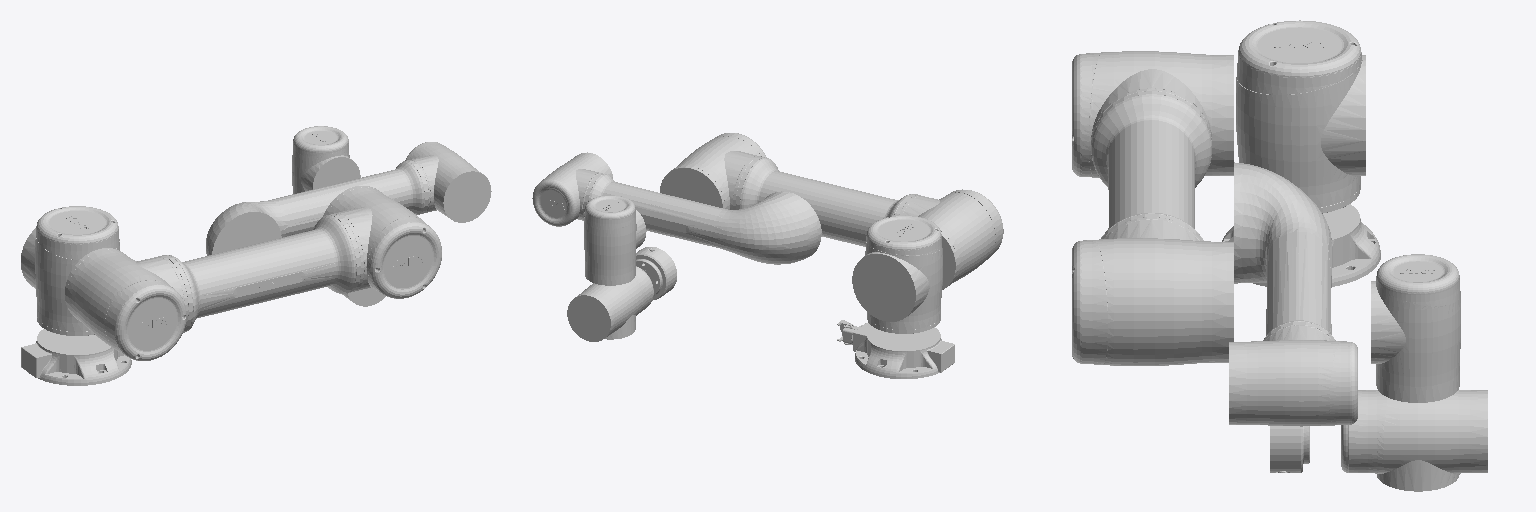
robot.urdf — jaka_zu3:
<?xml version="1.0" encoding="utf-8" ?>
<!-- This URDF was automatically created by SolidWorks to URDF Exporter! Originally created by [author] ([email redacted]) 
     Commit Version: 1.5.1-0-g916b5db  Build Version: 1.5.7152.31018
     For more information, please see http://wiki.ros.org/sw_urdf_exporter -->
<robot name="jaka_zu3">

    <!-- LINK -->
    <link name="world" />

    <link name="Link_0">  
        <inertial>
            <origin xyz="-0.0015666 1.7294E-05 0.05088" rpy="0 0 0" />
            <mass value="3.6417" />
            <inertia ixx="0.0050627" ixy="-6.9042E-07" ixz="-8.4162E-05" iyy="0.0051147" iyz="2.9665E-06" izz="0.006537" />
        </inertial>

        <visual>
            <origin xyz="0 0 0" rpy="0 0 0" />
            <geometry>
                <mesh filename="package://jaka_description/meshes/jaka_zu3_meshes/Link_0.STL" />
            </geometry>
            <material name="">
                <color rgba="0.84706 0.84706 0.84706 1" />
            </material>
        </visual>
        <collision>
            <origin xyz="0 0 0" rpy="0 0 0" />
            <geometry>
                <mesh filename="package://jaka_description/meshes/jaka_zu3_meshes/Link_0.STL" />
            </geometry>
        </collision>
    </link>

    <link name="Link_1">      
        <inertial>
            <origin xyz="-3.8197E-07 0.0039623 -0.0033438" rpy="0 0 0" />
            <mass value="7.0387" />
            <inertia ixx="0.012561" ixy="8.1417E-08" ixz="-1.8051E-08" iyy="0.011919" iyz="-8.7195E-05" izz="0.0085506" />
        </inertial>

        <visual>
            <origin xyz="0 0 0" rpy="0 0 0" />
            <geometry>
                <mesh filename="package://jaka_description/meshes/jaka_zu3_meshes/Link_1.STL" />
            </geometry>
            <material name="">
                <color rgba="0.84706 0.84706 0.84706 1" />
            </material>
        </visual>
        <collision>
            <origin xyz="0 0 0" rpy="0 0 0" />
            <geometry>
                <mesh filename="package://jaka_description/meshes/jaka_zu3_meshes/Link_1.STL" />
            </geometry>
        </collision>
    </link>

    <link name="Link_2">     
        <inertial>
            <origin xyz="0.11439 -6.6036E-07 -0.11395" rpy="0 0 0" />
            <mass value="18.247" />
            <inertia ixx="0.025431" ixy="1.2399E-06" ixz="-0.0016148" iyy="0.21741" iyz="-2.144E-08" izz="0.20927" />
        </inertial>

        <visual>
            <origin xyz="0 0 0" rpy="0 0 0" />
            <geometry>
                <mesh filename="package://jaka_description/meshes/jaka_zu3_meshes/Link_2.STL" />
            </geometry>
            <material name="">
                <color rgba="0.84706 0.84706 0.84706 1" />
            </material>
        </visual>
        <collision>
            <origin xyz="0 0 0" rpy="0 0 0" />
            <geometry>
                <mesh filename="package://jaka_description/meshes/jaka_zu3_meshes/Link_2.STL" />
            </geometry>
        </collision>
    </link>
   
    <link name="Link_3"> 
        <inertial>
            <origin xyz="0.13218 1.2348E-05 -0.0083734" rpy="0 0 0" />
            <mass value="9.5247" />
            <inertia ixx="0.0094701" ixy="7.4928E-07" ixz="-0.0012353" iyy="0.088902" iyz="6.5058E-08" izz="0.084947" />
        </inertial>

        <visual>
            <origin xyz="0 0 0" rpy="0 0 0" />
            <geometry>
                <mesh filename="package://jaka_description/meshes/jaka_zu3_meshes/Link_3.STL" />
            </geometry>
            <material name="">
                <color rgba="0.84706 0.84706 0.84706 1" />
            </material>
        </visual>
        <collision>
            <origin xyz="0 0 0" rpy="0 0 0" />
            <geometry>
                <mesh filename="package://jaka_description/meshes/jaka_zu3_meshes/Link_3.STL" />
            </geometry>
        </collision>
    </link>

    <link name="Link_4"> 
        <inertial>
            <origin xyz="6.5068E-08 -0.014052 0.0031614" rpy="0 0 0" />
            <mass value="3.8728" />
            <inertia ixx="0.0058546" ixy="-1.505E-08" ixz="-1.7928E-08" iyy="0.0025893" iyz="-0.00019825" izz="0.0056328" />
        </inertial>

        <visual>
            <origin xyz="0 0 0" rpy="0 0 0" />
            <geometry>
                <mesh filename="package://jaka_description/meshes/jaka_zu3_meshes/Link_4.STL" />
            </geometry>
            <material name="">
                <color rgba="0.84706 0.84706 0.84706 1" />
            </material>
        </visual>
        <collision>
            <origin xyz="0 0 0" rpy="0 0 0" />
            <geometry>
                <mesh filename="package://jaka_description/meshes/jaka_zu3_meshes/Link_4.STL" />
            </geometry>
        </collision>
    </link>

    <link name="Link_5">
        <inertial>
            <origin xyz="7.9256E-08 0.0068655 -0.0029086" rpy="0 0 0" />
            <mass value="4.3241" />
            <inertia ixx="0.007903" ixy="4.9677E-09" ixz="1.0083E-08" iyy="0.0028281" iyz="-0.00013094" izz="0.0076792" />
        </inertial>

        <visual>
            <origin xyz="0 0 0" rpy="0 0 0" />
            <geometry>
                <mesh filename="package://jaka_description/meshes/jaka_zu3_meshes/Link_5.STL" />
            </geometry>
            <material name="">
                <color rgba="0.84706 0.84706 0.84706 1" />
            </material>
        </visual>
        <collision>
            <origin xyz="0 0 0" rpy="0 0 0" />
            <geometry>
                <mesh filename="package://jaka_description/meshes/jaka_zu3_meshes/Link_5.STL" />
            </geometry>
        </collision>
    </link>

    <link name="Link_6">    
        <inertial>
            <origin xyz="4.9731E-05 -2.965E-05 -0.016372" rpy="0 0 0" />
            <mass value="0.7876" />
            <inertia ixx="0.00028184" ixy="-6.9755E-07" ixz="-4.4645E-07" iyy="0.00028506" iyz="6.0031E-07" izz="0.00045635" />
        </inertial>

        <visual>
            <origin xyz="0 0 0" rpy="0 0 0" />
            <geometry>
                <mesh filename="package://jaka_description/meshes/jaka_zu3_meshes/Link_6.STL" />
            </geometry>
            <material name="">
                <color rgba="0.84706 0.84706 0.84706 1" />
            </material>
        </visual>
        <collision>
            <origin xyz="0 0 0" rpy="0 0 0" />
            <geometry>
                <mesh filename="package://jaka_description/meshes/jaka_zu3_meshes/Link_6.STL" />
            </geometry>
        </collision>
    </link>

    <!-- JOINT -->
    <joint name="fixed" type="fixed">
        <parent link="world" />
        <child link="Link_0" />
    </joint>

    <joint name="joint_1" type="revolute">
        <origin xyz="0 0 0.15055" rpy="0 0 0" />
        <parent link="Link_0" />
        <child link="Link_1" />
        <axis xyz="0 0 1" />
        <limit lower="-6.28" upper="6.28" effort="2000" velocity="1.57" />
    </joint>
    
    <joint name="joint_2" type="revolute">
        <origin xyz="0 0 0" rpy="1.5708 0 0" />
        <parent link="Link_1" />
        <child link="Link_2" />
        <axis xyz="0 0 1" />
        <limit lower="-1.48" upper="4.62" effort="1500" velocity="1.57" />
    </joint>

    <joint name="joint_3" type="revolute">
        <origin xyz="0.248 0 0" rpy="0 0 0" />
        <parent link="Link_2" />
        <child link="Link_3" />
        <axis xyz="0 0 1" />
        <limit lower="-3.05" upper="3.05" effort="1500" velocity="1.57" />
    </joint>

    <joint name="joint_4" type="revolute">
        <origin xyz="0.228 1.1925E-05 -0.115" rpy="0 0 0" />
        <parent link="Link_3" />
        <child link="Link_4" />
        <axis xyz="0 0 1" />
        <limit lower="-1.48" upper="4.62" effort="1000" velocity="1.57" />
    </joint>

    <joint name="joint_5" type="revolute">
        <origin xyz="0 -0.1175 0" rpy="1.5708 0 0" />
        <parent link="Link_4" />
        <child link="Link_5" />
        <axis xyz="0 0 1" />
        <limit lower="-6.28" upper="6.28" effort="1000" velocity="1.57" />
    </joint>

        <joint name="joint_6" type="revolute">
        <origin xyz="0 0.1065 0" rpy="-1.5708 0 0" />
        <parent link="Link_5" />
        <child link="Link_6" />
        <axis xyz="0 0 1" />
        <limit lower="-6.28" upper="6.28" effort="1000" velocity="1.57" />
    </joint>

    <transmission name="trans_joint_1">
        <type>transmission_interface/SimpleTransmission</type>
        <joint name="joint_1">
            <hardwareInterface>hardware_interface/PositionJointInterface</hardwareInterface>
        </joint>
        <actuator name="joint_1_motor">
            <hardwareInterface>hardware_interface/PositionJointInterface</hardwareInterface>
            <mechanicalReduction>1</mechanicalReduction>
        </actuator>
    </transmission>
    <transmission name="trans_joint_2">
        <type>transmission_interface/SimpleTransmission</type>
        <joint name="joint_2">
            <hardwareInterface>hardware_interface/PositionJointInterface</hardwareInterface>
        </joint>
        <actuator name="joint_2_motor">
            <hardwareInterface>hardware_interface/PositionJointInterface</hardwareInterface>
            <mechanicalReduction>1</mechanicalReduction>
        </actuator>
    </transmission>
    <transmission name="trans_joint_3">
        <type>transmission_interface/SimpleTransmission</type>
        <joint name="joint_3">
            <hardwareInterface>hardware_interface/PositionJointInterface</hardwareInterface>
        </joint>
        <actuator name="joint_3_motor">
            <hardwareInterface>hardware_interface/PositionJointInterface</hardwareInterface>
            <mechanicalReduction>1</mechanicalReduction>
        </actuator>
    </transmission>
    <transmission name="trans_joint_4">
        <type>transmission_interface/SimpleTransmission</type>
        <joint name="joint_4">
            <hardwareInterface>hardware_interface/PositionJointInterface</hardwareInterface>
        </joint>
        <actuator name="joint_4_motor">
            <hardwareInterface>hardware_interface/PositionJointInterface</hardwareInterface>
            <mechanicalReduction>1</mechanicalReduction>
        </actuator>
    </transmission>
    <transmission name="trans_joint_5">
        <type>transmission_interface/SimpleTransmission</type>
        <joint name="joint_5">
            <hardwareInterface>hardware_interface/PositionJointInterface</hardwareInterface>
        </joint>
        <actuator name="joint_5_motor">
            <hardwareInterface>hardware_interface/PositionJointInterface</hardwareInterface>
            <mechanicalReduction>1</mechanicalReduction>
        </actuator>
    </transmission>
    <transmission name="trans_joint_6">
        <type>transmission_interface/SimpleTransmission</type>
        <joint name="joint_6">
            <hardwareInterface>hardware_interface/PositionJointInterface</hardwareInterface>
        </joint>
        <actuator name="joint_6_motor">
            <hardwareInterface>hardware_interface/PositionJointInterface</hardwareInterface>
            <mechanicalReduction>1</mechanicalReduction>
        </actuator>
    </transmission>
    <gazebo>
        <plugin name="gazebo_ros_control" filename="libgazebo_ros_control.so">
            <robotNamespace>/</robotNamespace>
        </plugin>
    </gazebo>
</robot>

--- What the picture shows (computed from the rendered views, not written in the file) ---
3 views of the same robot in one strip: view 1: azimuth 30°, elevation 25°; view 2: azimuth 150°, elevation 25°; view 3: azimuth 270°, elevation 25° (orthographic).
Model jaka_zu3 with 8 links and 7 joints (6 revolute, 1 fixed), rooted at world, posed all joints at 0.
Links seen in each view (by area): view 1: Link_2, Link_3, Link_1, Link_0, Link_4; view 2: Link_2, Link_3, Link_1, Link_4, Link_0, Link_5, Link_6; view 3: Link_2, Link_3, Link_1, Link_4, Link_5, Link_0, Link_6.
Boxes of the visible links, box(x1,y1,x2,y2) form: Link_2: box(65, 186, 441, 360); Link_3: box(206, 142, 491, 255); Link_1: box(21, 206, 119, 335); Link_0: box(21, 329, 131, 385); Link_4: box(292, 126, 360, 193); Link_2: box(660, 133, 1003, 289); Link_3: box(532, 152, 821, 264); Link_1: box(852, 215, 942, 333); Link_4: box(584, 195, 646, 285); Link_0: box(837, 320, 954, 378); Link_5: box(567, 266, 653, 341); Link_6: box(636, 247, 676, 300); Link_2: box(1072, 51, 1233, 365); Link_3: box(1229, 162, 1357, 426); Link_1: box(1236, 20, 1365, 213); Link_4: box(1371, 254, 1460, 402); Link_5: box(1341, 390, 1487, 491); Link_0: box(1222, 204, 1380, 286); Link_6: box(1270, 426, 1309, 472).
Size in the robot's own frame: 0.7407 by 0.4047 by 0.2405 metres.
7 mesh visuals loaded from 7 distinct referenced files (7 binary STL).
